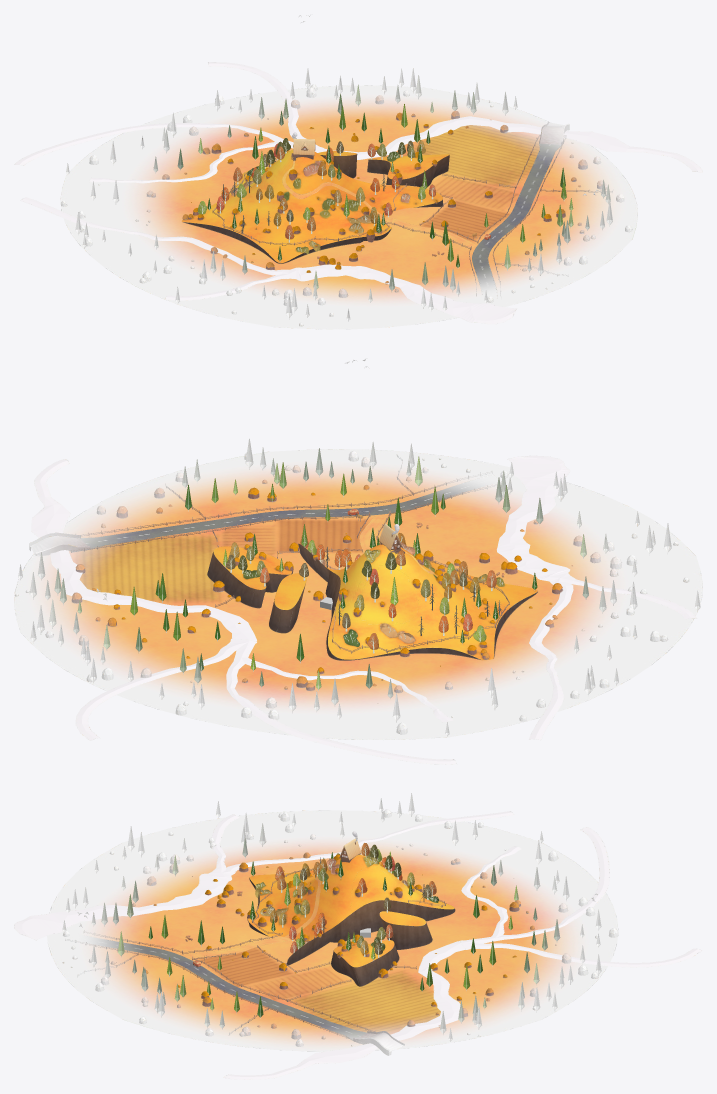
File: hillHouse1_compressed.glb
The picture shows the model from 3 angles, top to bottom: view 1: azimuth 30°, elevation 25°; view 2: azimuth 150°, elevation 25°; view 3: azimuth 270°, elevation 25°; orthographic projection. The views are drawn at different scales.
Size of the model in its own units: 119 by 17.1 by 128.
Materials: 2 (1 with a texture image).
